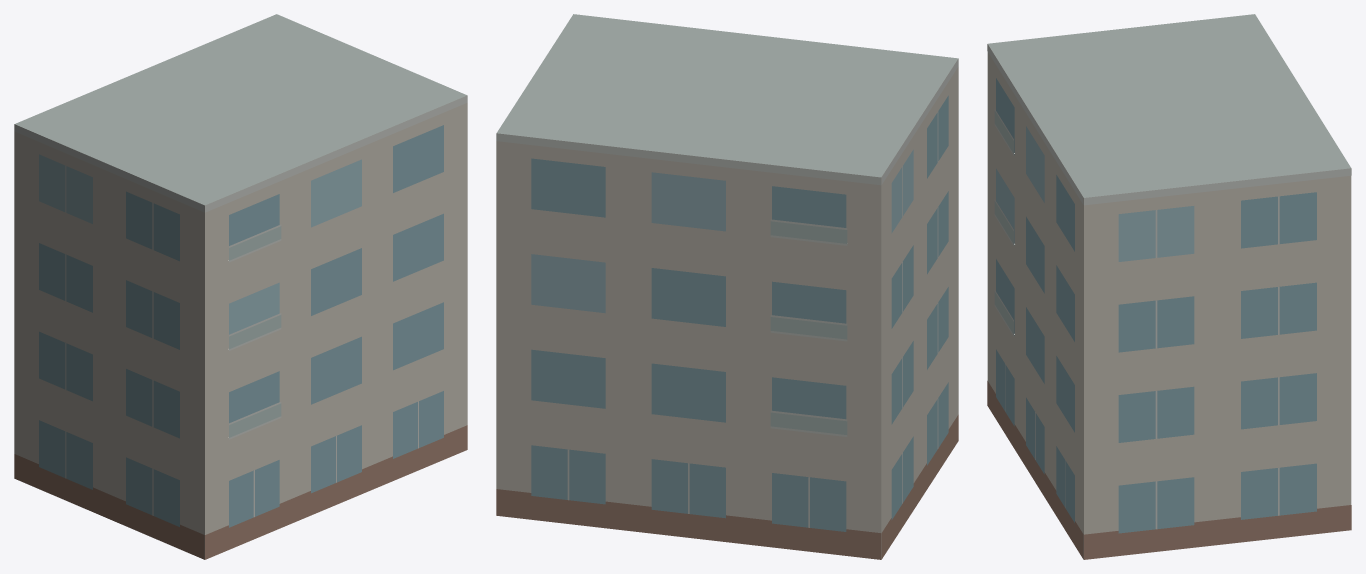
The model's file is survey-upis-32597994.glb.
3 renders of one model, left to right at view 1: azimuth 30°, elevation 25°; view 2: azimuth 150°, elevation 25°; view 3: azimuth 270°, elevation 25°, orthographic. The views are drawn at different scales.
Parts seen in each view (by area): view 1: survey-upis-32597994.tmp; view 2: survey-upis-32597994.tmp; view 3: survey-upis-32597994.tmp.
Boxes of the visible parts, x1,y1,x2,y2 form: survey-upis-32597994.tmp: (14, 14, 467, 559); survey-upis-32597994.tmp: (496, 14, 958, 559); survey-upis-32597994.tmp: (987, 14, 1351, 559).
Size of the model in its own units: 12.99 by 11.9 by 10.86.
